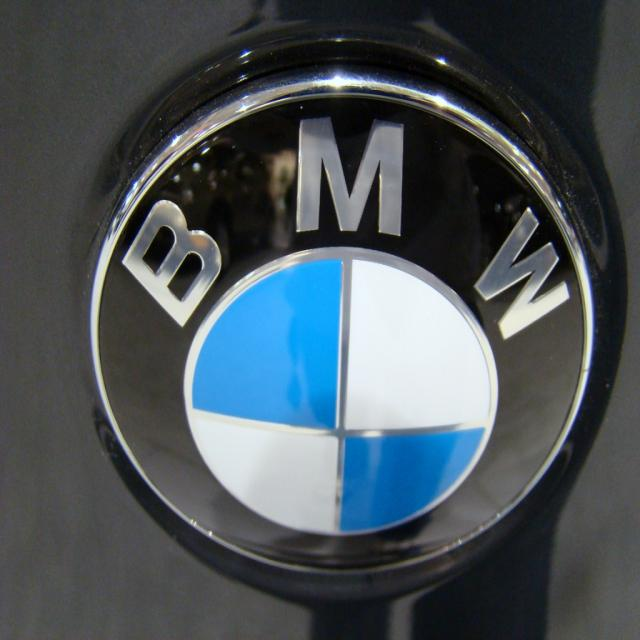bmw: (86, 75, 598, 584)
